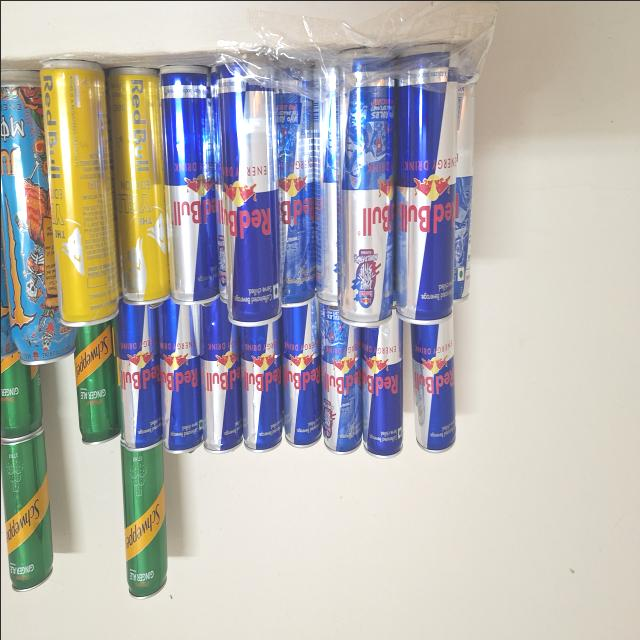Monster Mango Loco: (0, 90, 44, 363)
Redbul: (396, 44, 458, 322), (214, 64, 279, 323), (160, 62, 220, 298), (156, 304, 206, 446), (312, 64, 340, 306), (115, 306, 163, 442), (202, 300, 242, 450), (277, 306, 320, 444), (411, 325, 457, 445), (241, 320, 283, 448), (362, 328, 402, 454)
Redbull DanceYourStyle: (338, 47, 398, 322), (272, 65, 314, 299), (318, 304, 362, 453), (448, 63, 476, 292)
Redbull Yellow Edition: (36, 62, 114, 325), (108, 61, 166, 306)
Schweppes: (2, 438, 57, 588), (116, 448, 168, 596), (70, 329, 118, 435), (1, 362, 38, 432)
